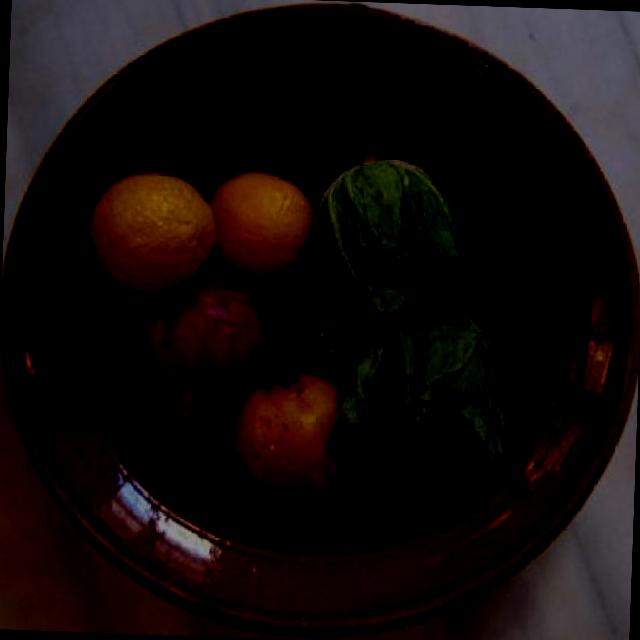Apple: (138, 278, 281, 402)
Orange: (86, 167, 218, 299), (226, 363, 354, 498), (206, 170, 314, 288)
